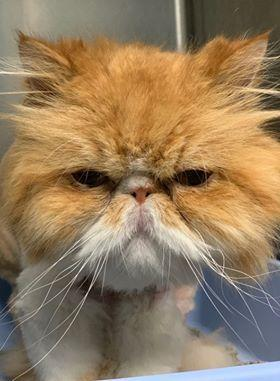persian: (1, 14, 280, 313)
